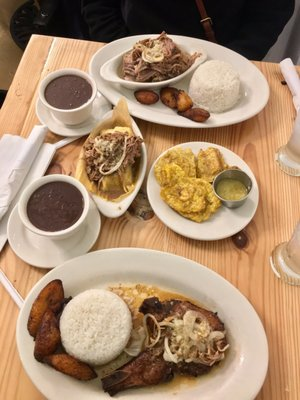salad: (269, 213, 300, 287)
sushi: (13, 246, 267, 399), (17, 174, 92, 243), (213, 168, 252, 209)
